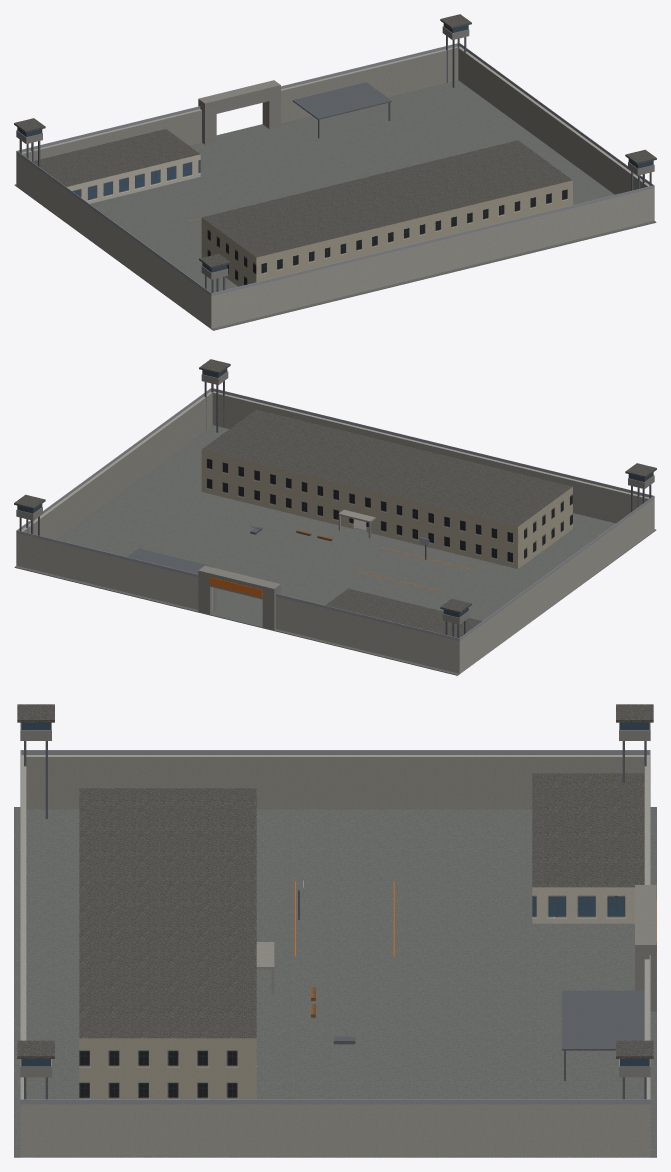
The model's file is state_prison.glb.
3 renders of one model, top to bottom at view 1: azimuth 30°, elevation 25°; view 2: azimuth 150°, elevation 25°; view 3: azimuth 270°, elevation 25°, orthographic. The views are drawn at different scales.
Parts seen in each view (by area): view 1: state_prison; view 2: state_prison; view 3: state_prison.
Part boxes in pixels (left/top/right/bottom): state_prison: left=14, top=14, right=656, bottom=330; state_prison: left=14, top=359, right=656, bottom=675; state_prison: left=14, top=704, right=656, bottom=1157.
Bounding box in the file's own units: 84.6 × 11.5 × 65.3.
18 materials, 18 textured.
